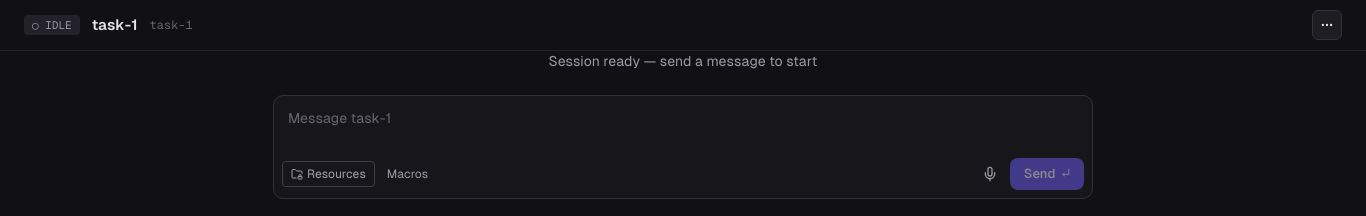
Test: NativeAgentPanel dictation › sets the foot of the composer aside while it records, and puts what was said in the message
Type "can you look" into the text box labelled "Message".
click(683, 124); type("can you look")  # box [274,96,1092,152]
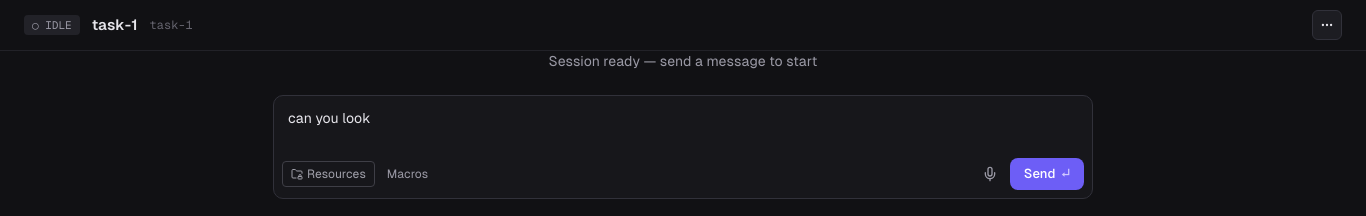
Click the button named "Voice dictation".
click(990, 174)  # box [974,158,1006,190]
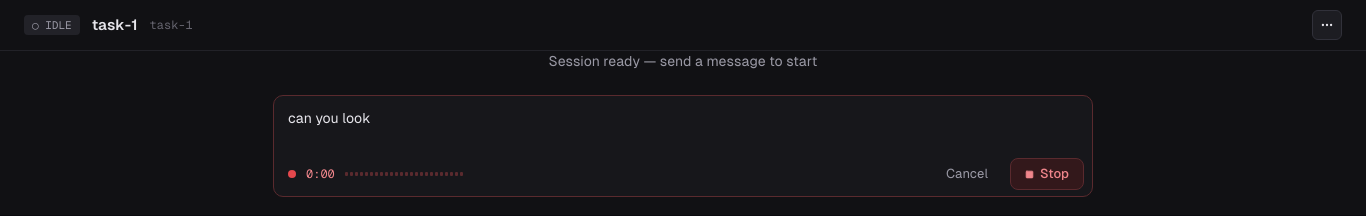
Check: the text "0:00" is shown, box [306,166,335,182]
Check: the element with test id "composer-actions" is gone
Click the button "Stop".
click(1047, 174)  # box [1010,158,1084,190]
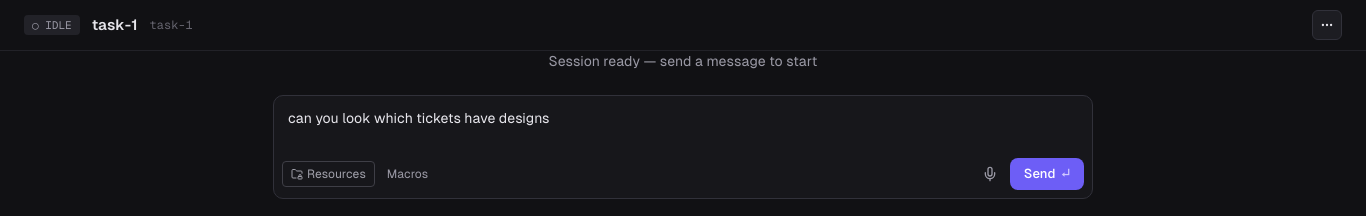
Check: the text box named "Message" holds "can you look which tickets have designs", box [274,96,1092,152]
Check: the element with test id "composer-actions" is shown, box [274,152,1092,198]
